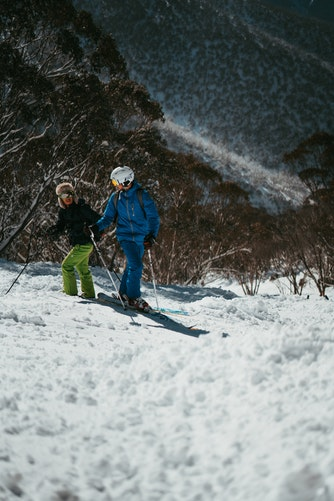helmet: (109, 164, 137, 185)
